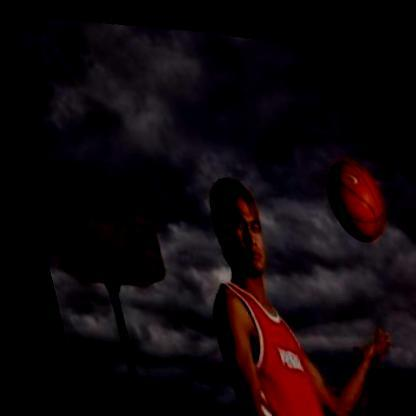basketball: (312, 135, 392, 240)
